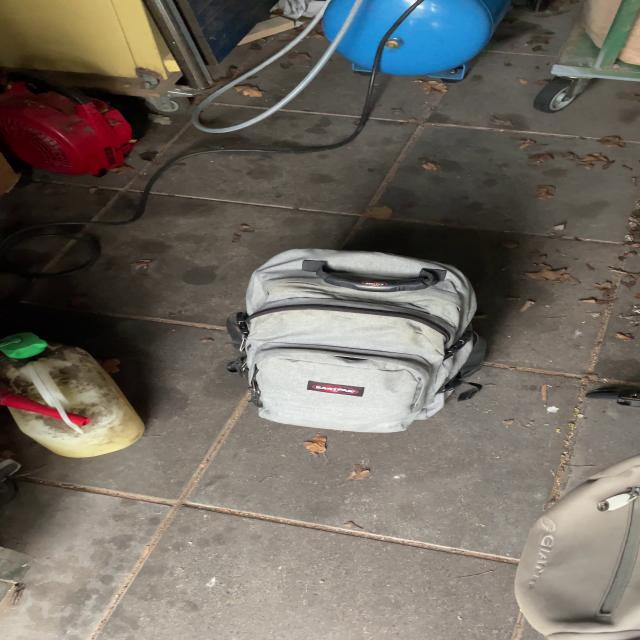backpack: (219, 239, 501, 438)
